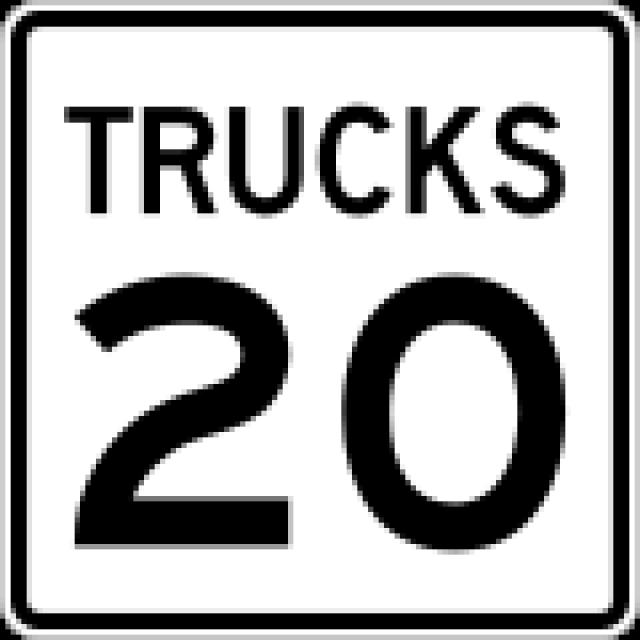Speed Limit -20-: (73, 268, 571, 552)
